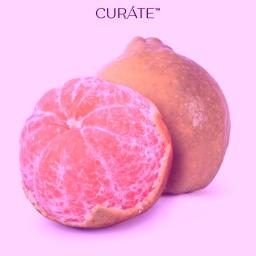orange: (85, 32, 238, 212), (19, 70, 185, 234)
